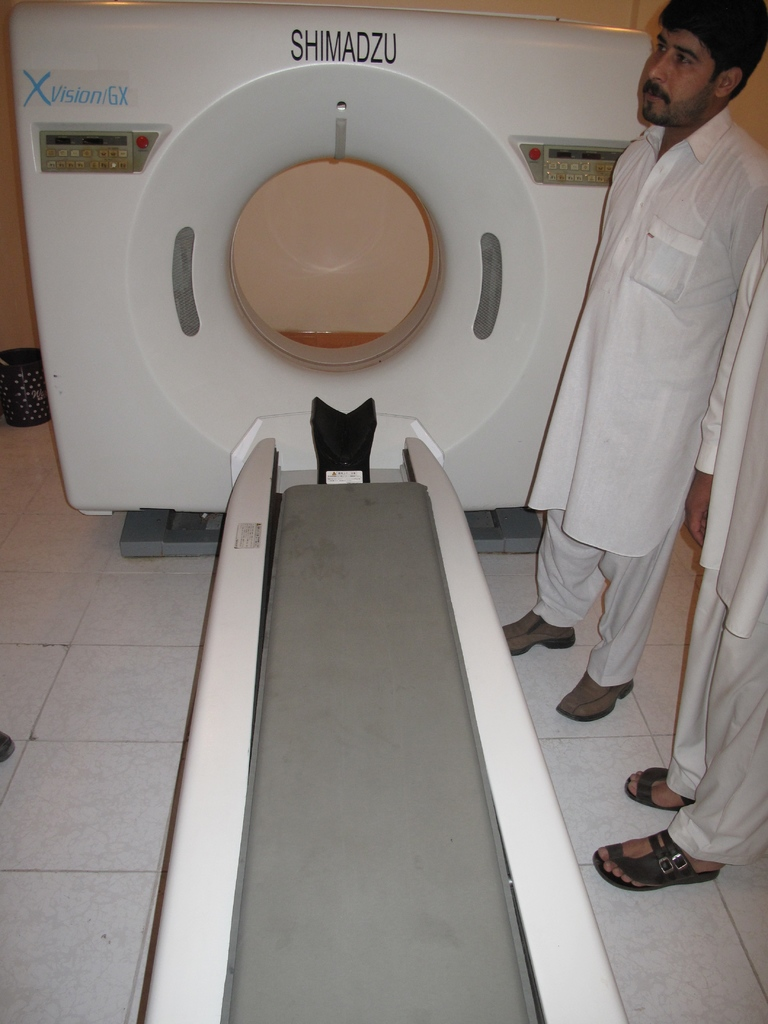Person: (502, 0, 768, 722), (592, 203, 767, 891)
